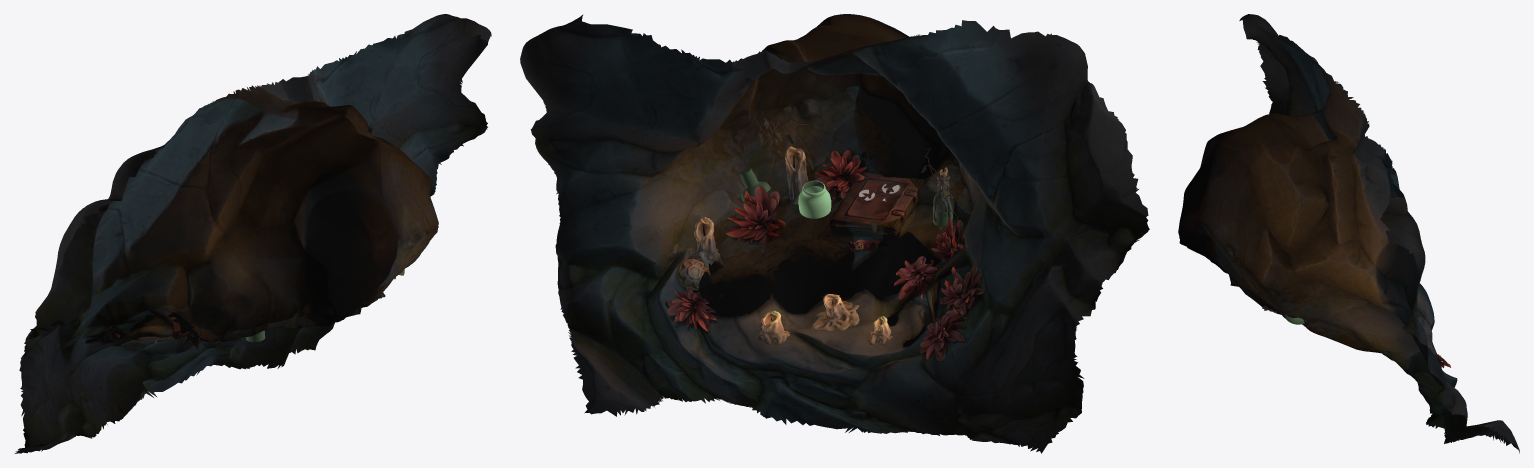
File: _shrine.fbx
3 views of the same model, side by side, from view 1: azimuth 30°, elevation 25°; view 2: azimuth 150°, elevation 25°; view 3: azimuth 270°, elevation 25° (orthographic). The views are drawn at different scales.
Parts seen in each view (by area): view 1: models/ui/muerta_ofrenda/muerta_ofrenda_env.vmdl_c.unnamed_1; view 2: models/ui/muerta_ofrenda/muerta_ofrenda_env.vmdl_c.unnamed_1, models/ui/muerta_ofrenda/muerta_ofrenda_wheat.vmdl_c.unnamed; view 3: models/ui/muerta_ofrenda/muerta_ofrenda_env.vmdl_c.unnamed_1.
Boxes of the visible parts, <box> form: models/ui/muerta_ofrenda/muerta_ofrenda_env.vmdl_c.unnamed_1: <box>14,14,491,453</box>; models/ui/muerta_ofrenda/muerta_ofrenda_env.vmdl_c.unnamed_1: <box>520,14,1149,453</box>; models/ui/muerta_ofrenda/muerta_ofrenda_wheat.vmdl_c.unnamed: <box>738,111,963,241</box>; models/ui/muerta_ofrenda/muerta_ofrenda_env.vmdl_c.unnamed_1: <box>1178,14,1519,453</box>.
Bounding box in the file's own units: 24.87 × 15.84 × 15.37.
